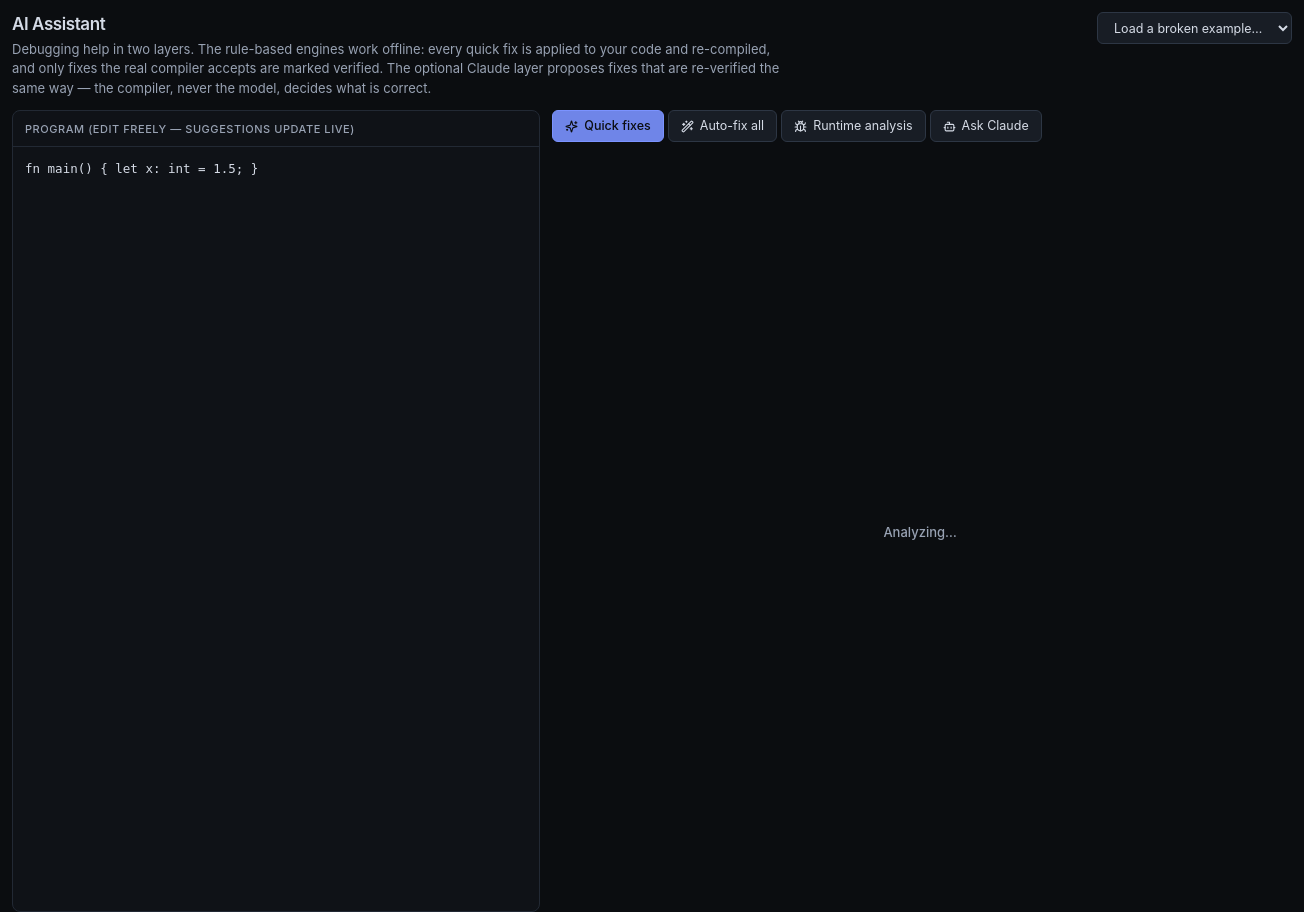
Test: Assistant › explains runtime failures from the rule-based engine
Step 1. Click the button "Runtime analysis" → (853, 126), box x1=781 y1=110 x2=926 y2=142
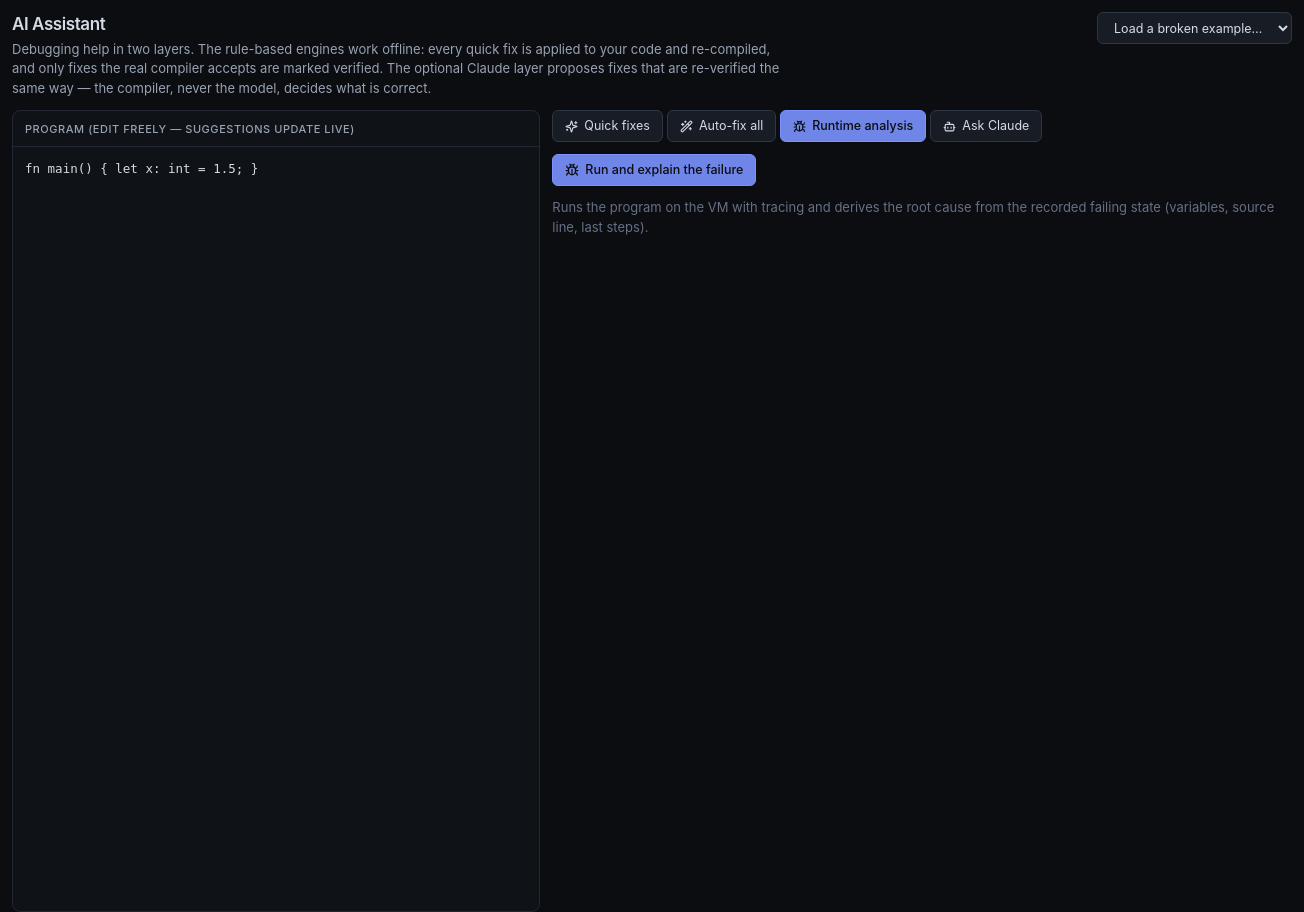
Step 2. Click the button "Run and explain the failure" → (654, 170), box x1=552 y1=154 x2=756 y2=186
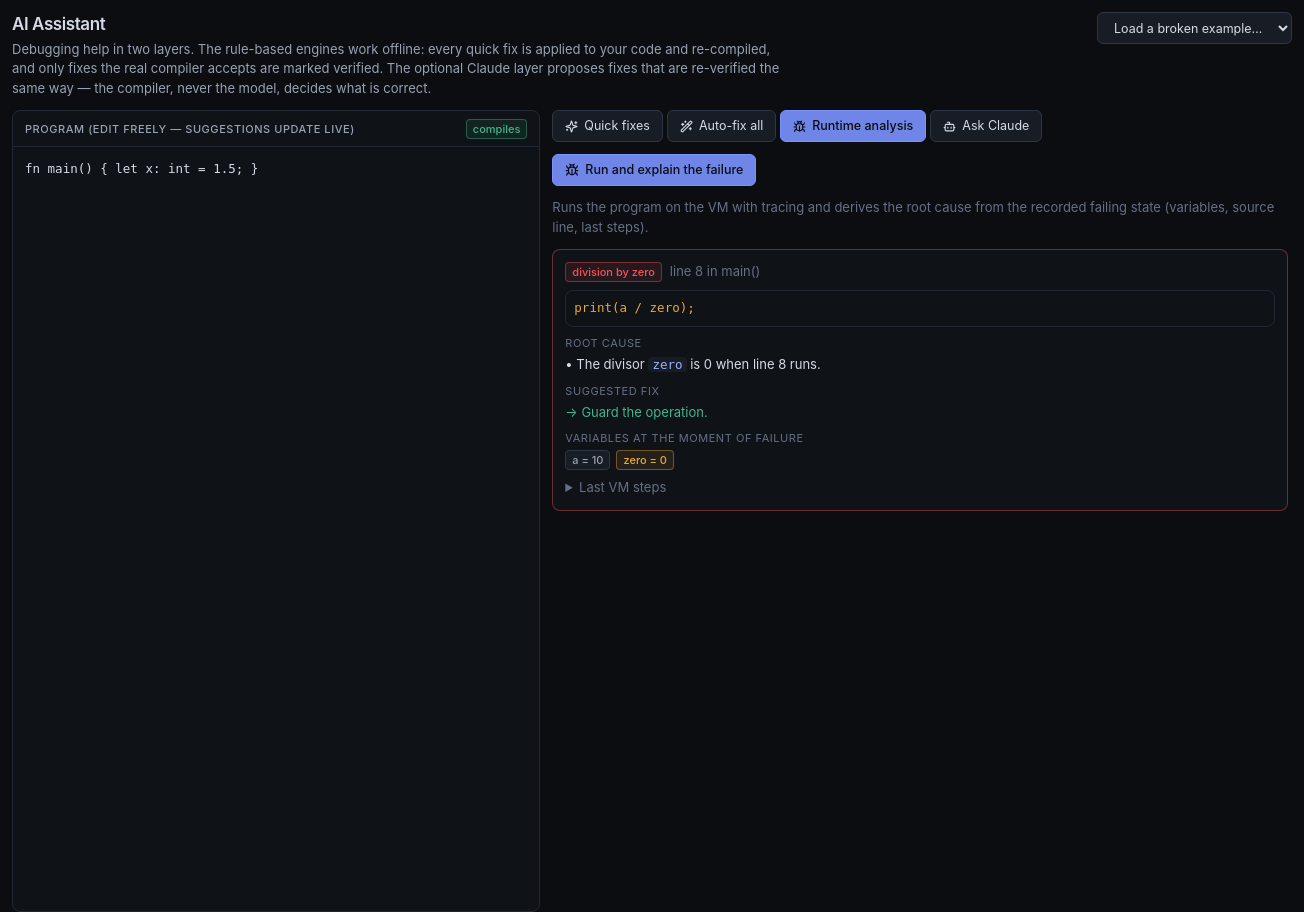
Expected: the text "division by zero" is shown, x1=565 y1=262 x2=662 y2=282
Expected: the text "zero" is shown, x1=648 y1=357 x2=686 y2=372
Expected: the text "zero = 0" is shown, x1=616 y1=450 x2=674 y2=470
